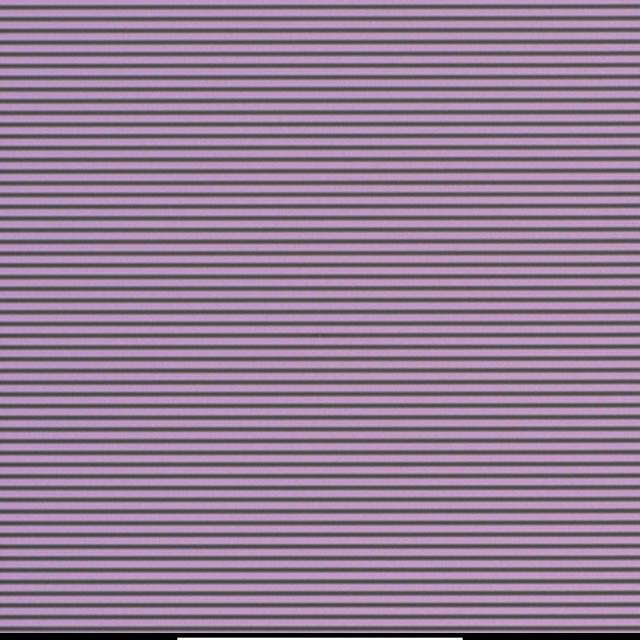03_intrusion: (312, 331, 324, 342)
